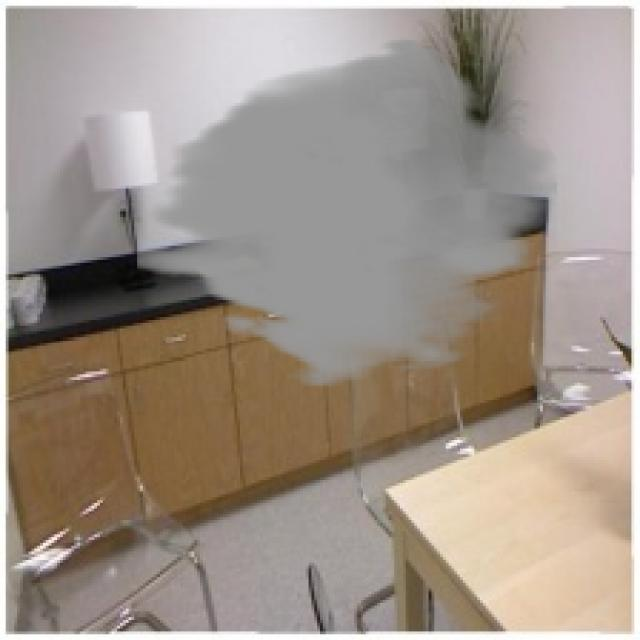smoke: (137, 37, 557, 389)
